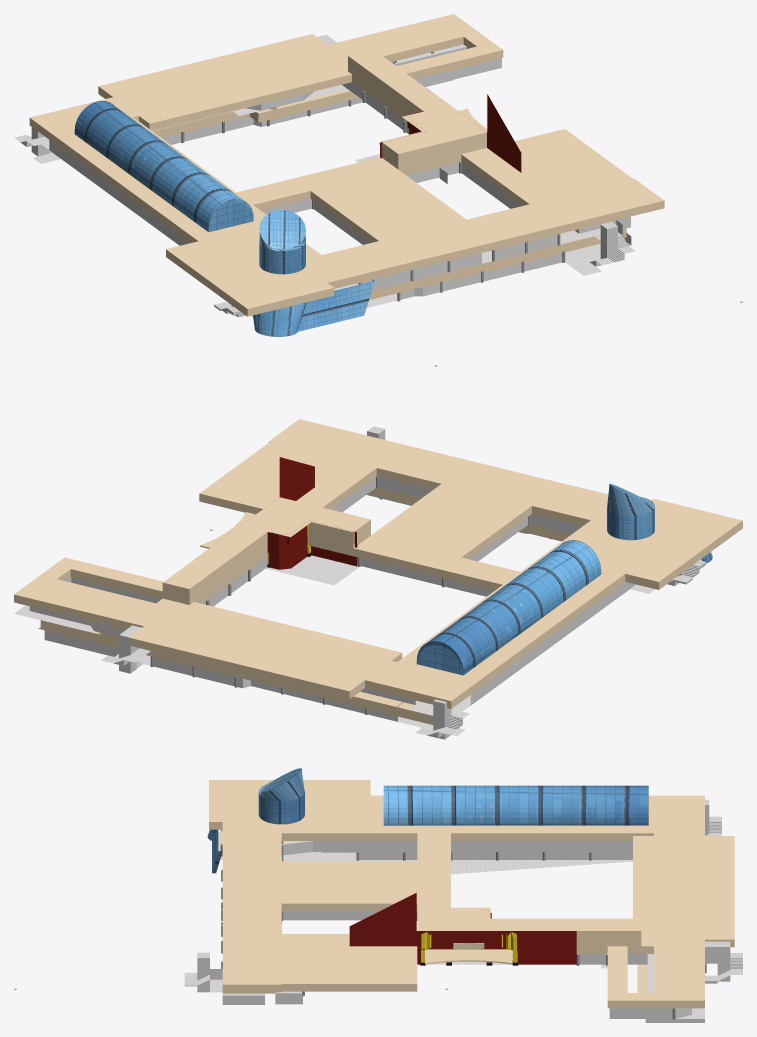
File: hiperd.fbx
The picture shows the model from 3 angles, top to bottom: view 1: azimuth 30°, elevation 25°; view 2: azimuth 150°, elevation 25°; view 3: azimuth 270°, elevation 25°; orthographic projection. The views are drawn at different scales.
Parts seen in each view (by area): view 1: Cube.001, Cylinder.001, Texturas.Tiendasnormal, Cube, Cylinder.003, Plane, Cylinder.002, Texturas.Comida, Pared.Cine, Escaleranormal.pared, Escaleranormal, Cylinder; view 2: Cube.001, Cylinder.001, Texturas.Tiendasnormal, Cube, Pared.Cine, Plane, Texturas.Comida, Cylinder.002, Escaleranormal, Escaleranormal.pared; view 3: Cube.001, Cylinder.001, Pared.Cine, Texturas.Tiendasnormal, Plane, Cylinder.002, NurbsPath, Textur.SuperMerca, Texturas.Comida, Escaleranormal.pared.001, Cube, Escaleranormal.pared (+3 smaller).
Part boxes in pixels (x1,y1,x2,y2): Cube.001: (29,14,664,316); Cylinder.001: (74,101,253,232); Texturas.Tiendasnormal: (49,58,631,299); Cube: (152,89,626,299); Cylinder.003: (253,279,374,336); Plane: (27,44,630,317); Cylinder.002: (259,210,305,274); Texturas.Comida: (314,201,557,290); Pared.Cine: (379,94,521,172); Escaleranormal.pared: (31,114,617,317); Escaleranormal: (14,135,634,315); Cylinder: (181,52,742,302); Cube.001: (14,419,742,708); Cylinder.001: (416,540,601,675); Texturas.Tiendasnormal: (29,477,635,721); Cube: (38,487,570,724); Pared.Cine: (267,457,357,569); Plane: (14,555,655,735); Texturas.Comida: (361,476,580,585); Cylinder.002: (607,483,654,540); Escaleranormal: (415,560,706,737); Escaleranormal.pared: (367,426,682,739); Cube.001: (209,780,734,1008); Cylinder.001: (383,785,648,825); Pared.Cine: (349,893,576,964); Texturas.Tiendasnormal: (222,841,704,1022); Plane: (184,832,704,1018); Cylinder.002: (258,768,304,824); NurbsPath: (425,943,512,964); Textur.SuperMerca: (359,852,573,859); Texturas.Comida: (283,911,378,920); Escaleranormal.pared.001: (705,941,730,981); Cube: (220,829,647,993); Escaleranormal.pared: (197,799,709,992).
Size of the model in its own units: 12376 by 2403 by 17230.
